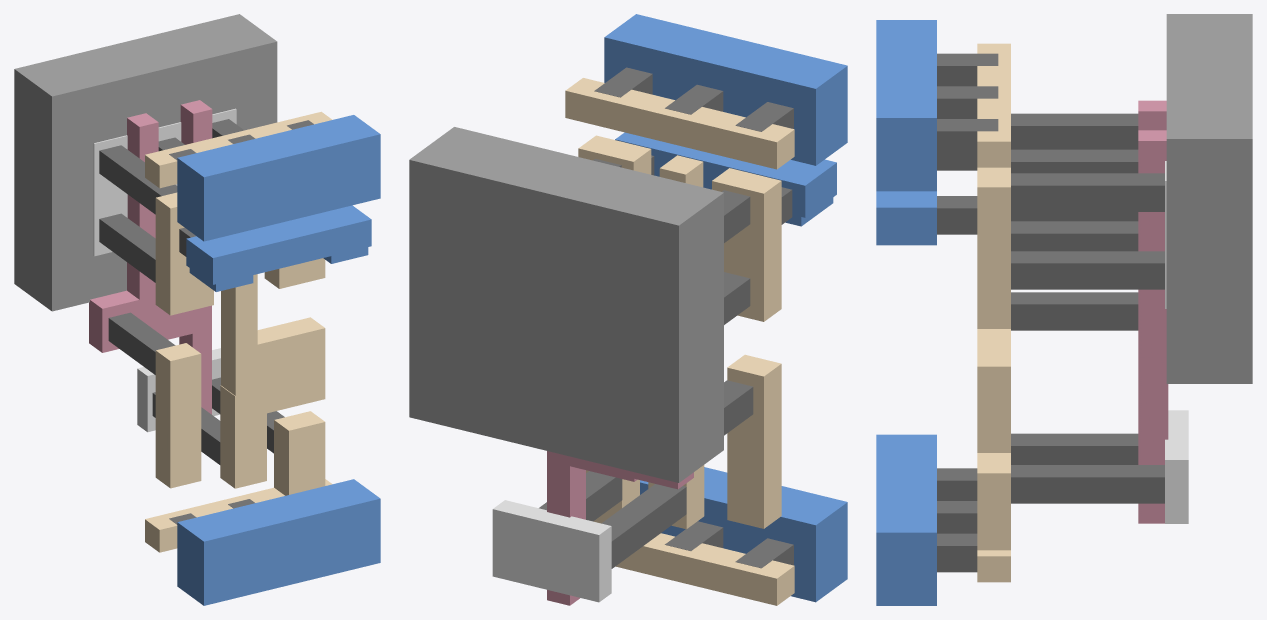
Rendered from sky130_fd_sc_hd__lpflow_clkinvkapwr_1.gds.gltf.
3 views of the same model, side by side, from view 1: azimuth 30°, elevation 25°; view 2: azimuth 150°, elevation 25°; view 3: azimuth 270°, elevation 25° (orthographic). The views are drawn at different scales.
Visible parts, largest first — view 1: sky130_fd_sc_hd__lpflow_clkinvkapwr_1_met1, sky130_fd_sc_hd__lpflow_clkinvkapwr_1_nwell, sky130_fd_sc_hd__lpflow_clkinvkapwr_1_li1, sky130_fd_sc_hd__lpflow_clkinvkapwr_1_licon, sky130_fd_sc_hd__lpflow_clkinvkapwr_1_poly, sky130_fd_sc_hd__lpflow_clkinvkapwr_1_diff, sky130_fd_sc_hd__lpflow_clkinvkapwr_1_mcon; view 2: sky130_fd_sc_hd__lpflow_clkinvkapwr_1_nwell, sky130_fd_sc_hd__lpflow_clkinvkapwr_1_li1, sky130_fd_sc_hd__lpflow_clkinvkapwr_1_met1, sky130_fd_sc_hd__lpflow_clkinvkapwr_1_diff, sky130_fd_sc_hd__lpflow_clkinvkapwr_1_licon, sky130_fd_sc_hd__lpflow_clkinvkapwr_1_mcon, sky130_fd_sc_hd__lpflow_clkinvkapwr_1_poly; view 3: sky130_fd_sc_hd__lpflow_clkinvkapwr_1_licon, sky130_fd_sc_hd__lpflow_clkinvkapwr_1_nwell, sky130_fd_sc_hd__lpflow_clkinvkapwr_1_met1, sky130_fd_sc_hd__lpflow_clkinvkapwr_1_li1, sky130_fd_sc_hd__lpflow_clkinvkapwr_1_mcon, sky130_fd_sc_hd__lpflow_clkinvkapwr_1_poly, sky130_fd_sc_hd__lpflow_clkinvkapwr_1_diff.
Part boxes in pixels (<box>): sky130_fd_sc_hd__lpflow_clkinvkapwr_1_met1: <box>177,115,380,605</box>; sky130_fd_sc_hd__lpflow_clkinvkapwr_1_nwell: <box>14,14,277,311</box>; sky130_fd_sc_hd__lpflow_clkinvkapwr_1_li1: <box>145,111,332,552</box>; sky130_fd_sc_hd__lpflow_clkinvkapwr_1_licon: <box>99,119,284,464</box>; sky130_fd_sc_hd__lpflow_clkinvkapwr_1_poly: <box>89,100,212,414</box>; sky130_fd_sc_hd__lpflow_clkinvkapwr_1_diff: <box>93,108,236,432</box>; sky130_fd_sc_hd__lpflow_clkinvkapwr_1_mcon: <box>169,120,313,524</box>; sky130_fd_sc_hd__lpflow_clkinvkapwr_1_nwell: <box>409,127,723,482</box>; sky130_fd_sc_hd__lpflow_clkinvkapwr_1_li1: <box>565,78,794,605</box>; sky130_fd_sc_hd__lpflow_clkinvkapwr_1_met1: <box>604,14,847,602</box>; sky130_fd_sc_hd__lpflow_clkinvkapwr_1_diff: <box>492,500,611,602</box>; sky130_fd_sc_hd__lpflow_clkinvkapwr_1_licon: <box>539,159,753,568</box>; sky130_fd_sc_hd__lpflow_clkinvkapwr_1_mcon: <box>594,67,793,568</box>; sky130_fd_sc_hd__lpflow_clkinvkapwr_1_poly: <box>547,451,693,605</box>; sky130_fd_sc_hd__lpflow_clkinvkapwr_1_licon: <box>1011,113,1164,503</box>; sky130_fd_sc_hd__lpflow_clkinvkapwr_1_nwell: <box>1166,14,1252,383</box>; sky130_fd_sc_hd__lpflow_clkinvkapwr_1_met1: <box>876,20,936,605</box>; sky130_fd_sc_hd__lpflow_clkinvkapwr_1_li1: <box>977,43,1010,582</box>; sky130_fd_sc_hd__lpflow_clkinvkapwr_1_mcon: <box>937,53,998,572</box>; sky130_fd_sc_hd__lpflow_clkinvkapwr_1_poly: <box>1138,100,1168,523</box>; sky130_fd_sc_hd__lpflow_clkinvkapwr_1_diff: <box>1165,161,1188,523</box>.
Bounding box in the file's own units: 1.76 × 3.2 × 2.24.
